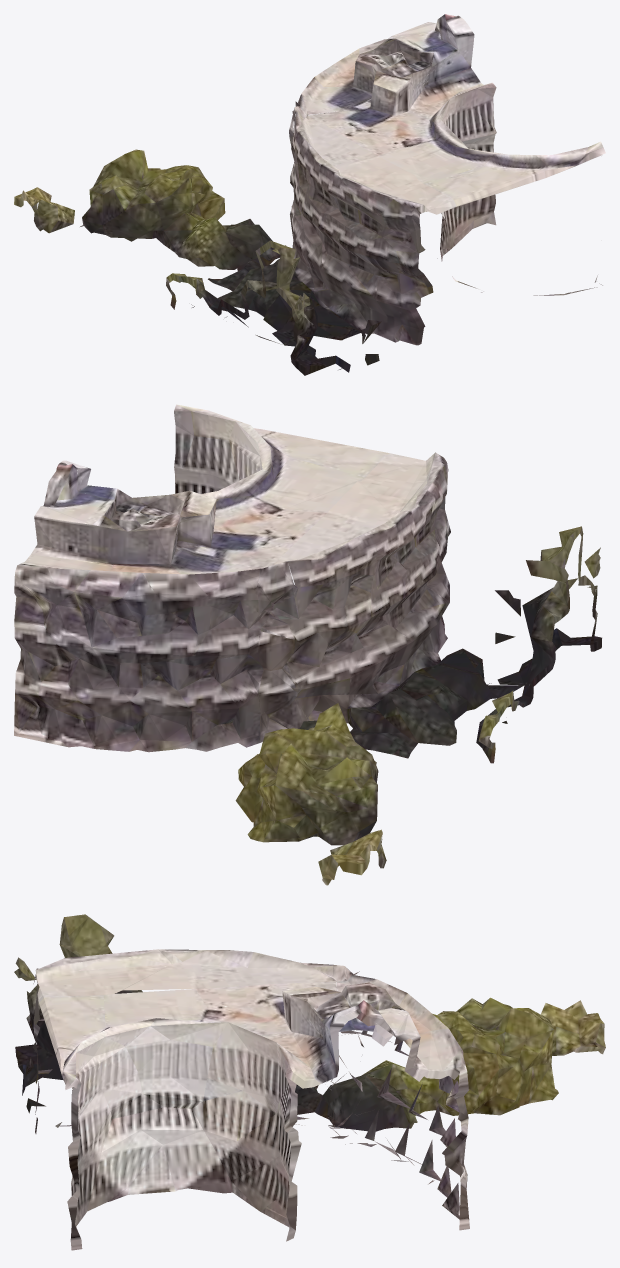
3 renders of one model, top to bottom at view 1: azimuth 30°, elevation 25°; view 2: azimuth 150°, elevation 25°; view 3: azimuth 270°, elevation 25°, orthographic. The views are drawn at different scales.
Visible parts, largest first — view 1: Mesh_0; view 2: Mesh_0; view 3: Mesh_0.
Part boxes in pixels (x1,y1,x2,y2): Mesh_0: (14, 14, 605, 375); Mesh_0: (14, 404, 601, 885); Mesh_0: (14, 914, 605, 1250).
Size of the model in its own units: 33.36 by 16.88 by 38.47.
1 material, 1 textured.
